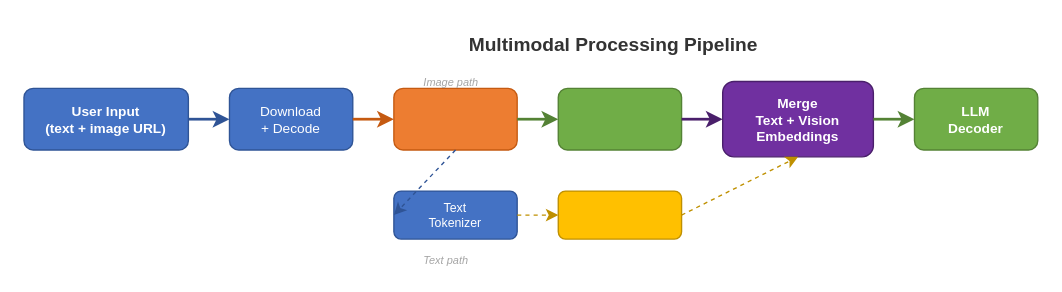
Some shapes in this 1062 by 292 pixel diagram are drawn without their labels. The shapes that lost their labels are listed below. From the top down, each one's centre as x and y in pixels, then its label:
At point 455,118: "Resize Normalize".
At point 619,118: "Vision Encoder".
At point 619,214: "Insert Placeholders".
